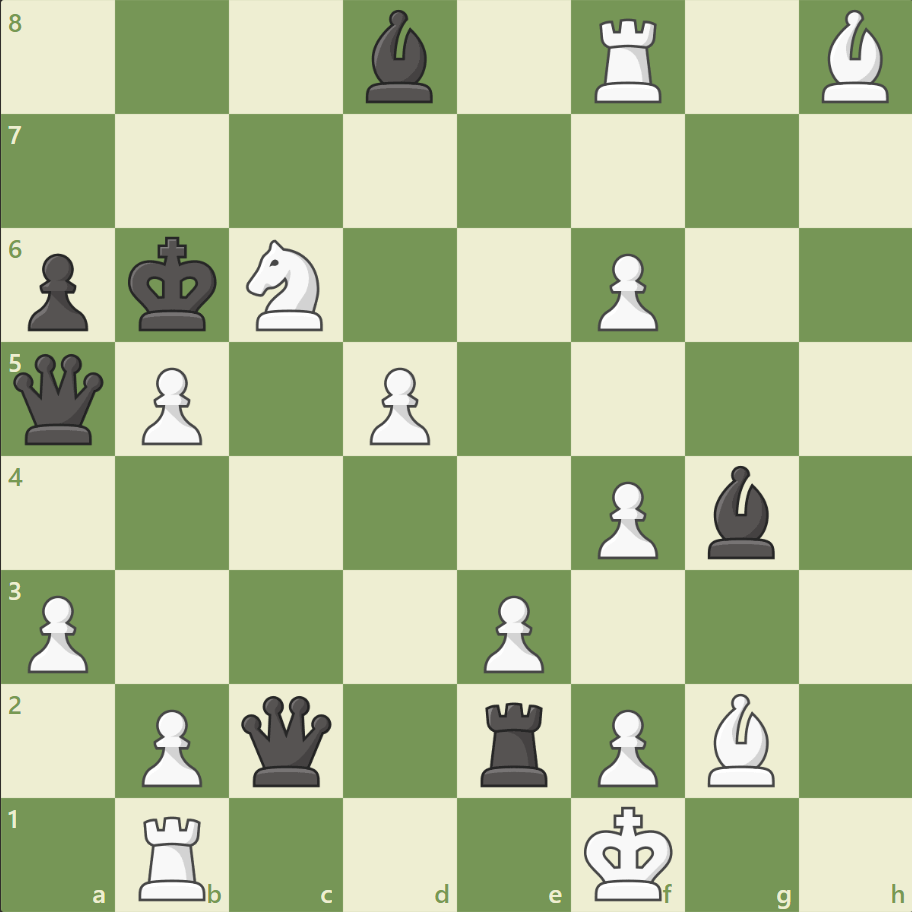B: (812, 6, 896, 109), (698, 687, 782, 790)
K: (579, 798, 679, 906)
N: (238, 234, 335, 337)
P: (133, 359, 208, 450), (20, 586, 95, 677), (474, 586, 549, 677), (133, 700, 208, 791), (588, 246, 662, 337), (361, 359, 435, 450), (588, 473, 662, 564), (588, 700, 662, 791)
R: (587, 12, 670, 109), (133, 806, 215, 904)
b: (358, 6, 442, 109), (698, 460, 782, 563)
k: (124, 231, 224, 339)
p: (20, 246, 95, 337)
q: (10, 349, 109, 449), (237, 690, 336, 789)
r: (473, 693, 556, 790)
